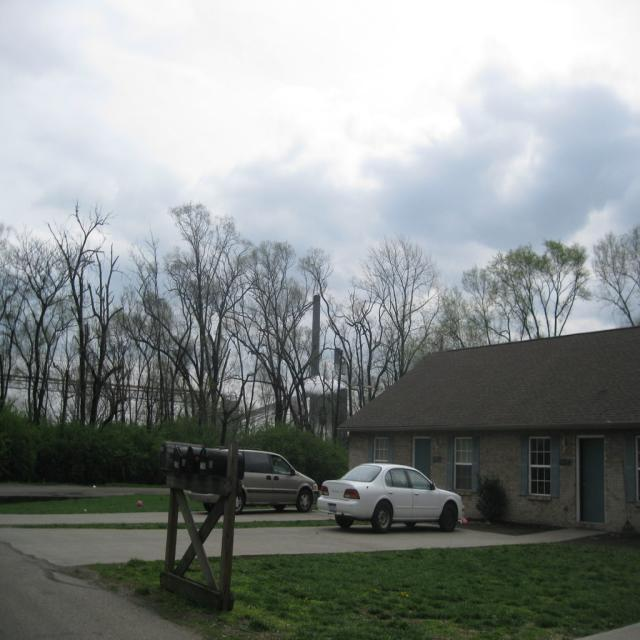car: (315, 463, 464, 535)
